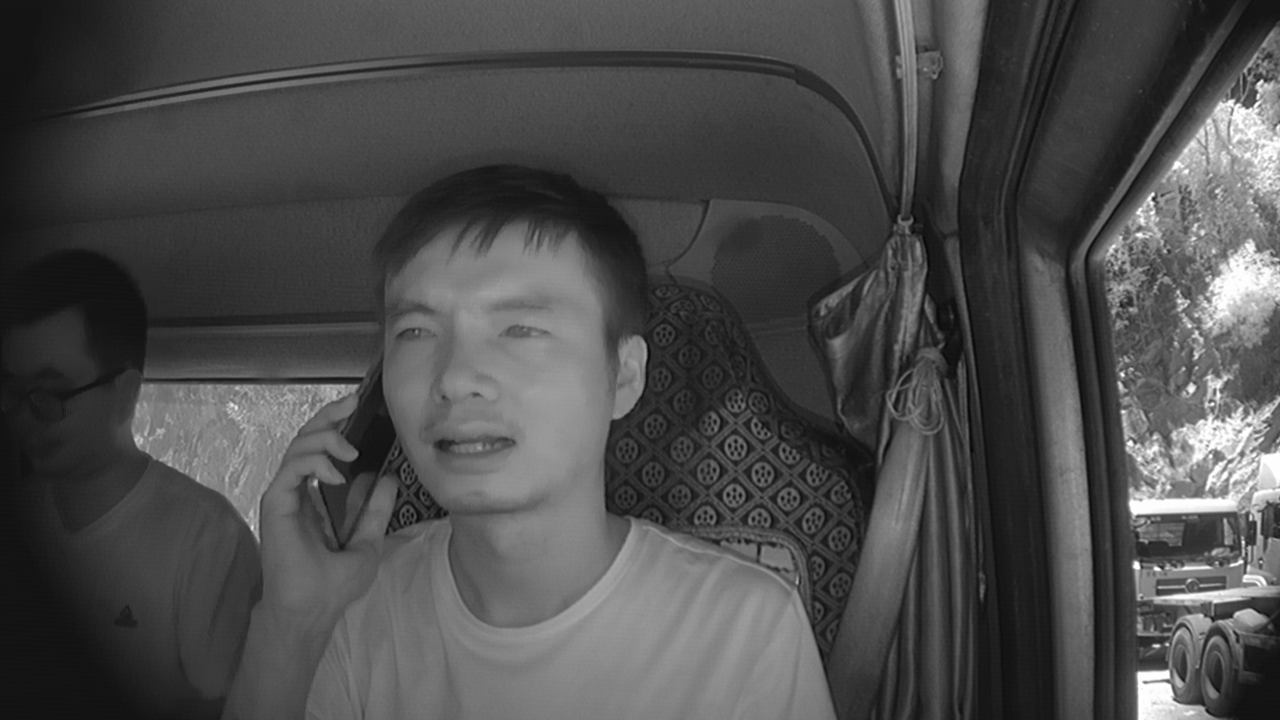hand: (264, 392, 398, 587)
